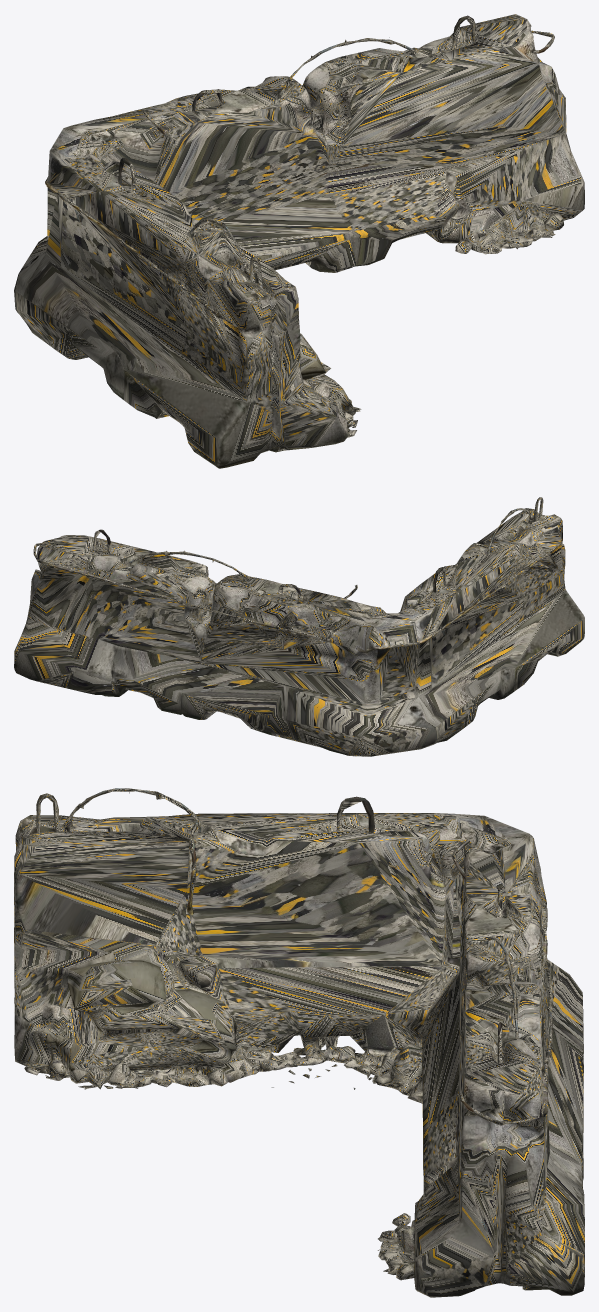
File: road_barrier.glb
The picture shows the model from 3 angles, top to bottom: view 1: azimuth 30°, elevation 25°; view 2: azimuth 150°, elevation 25°; view 3: azimuth 270°, elevation 25°; orthographic projection. The views are drawn at different scales.
Parts seen in each view (by area): view 1: road_barrier; view 2: road_barrier; view 3: road_barrier.
Part boxes in pixels (<box>): road_barrier: <box>14,14,584,468</box>; road_barrier: <box>14,497,584,756</box>; road_barrier: <box>14,788,584,1297</box>.
Size of the model in its own units: 1.89 by 0.6862 by 1.47.
1 material, 1 textured.
